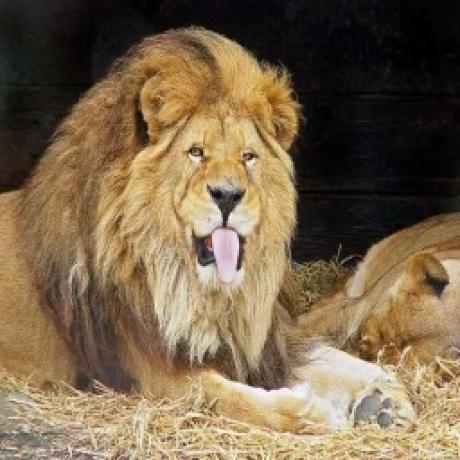Lion: (0, 15, 407, 452), (319, 178, 460, 381)
